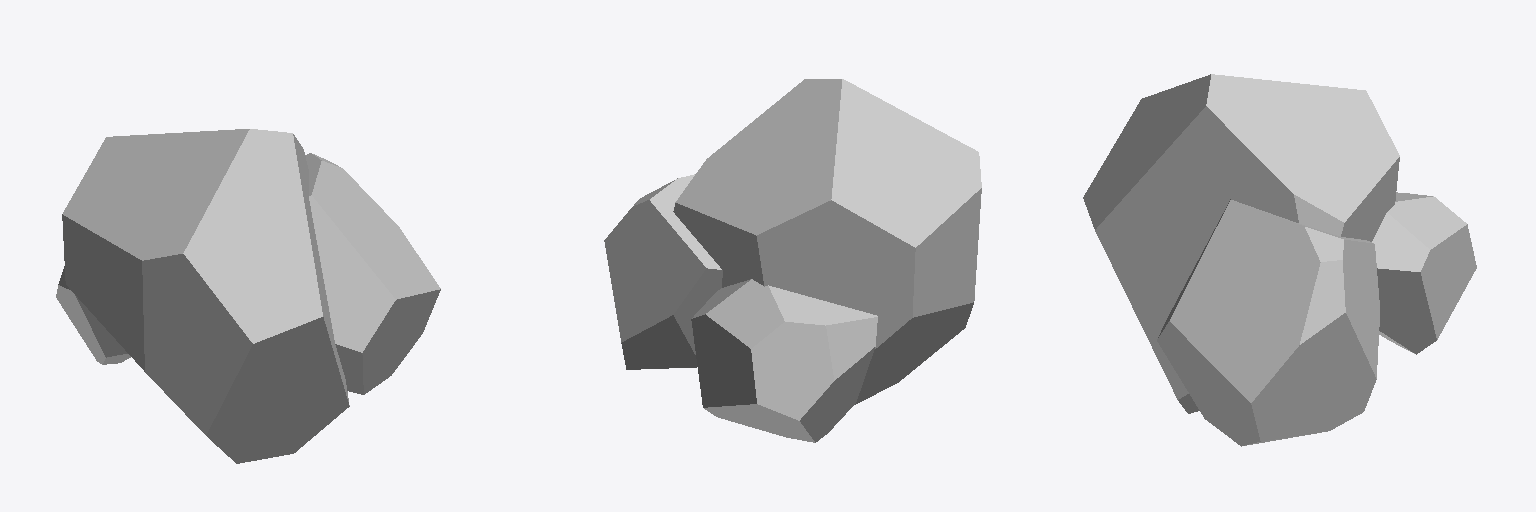
File: Rochas 1-1obj.obj
3 views of the same model, side by side, from view 1: azimuth 30°, elevation 25°; view 2: azimuth 150°, elevation 25°; view 3: azimuth 270°, elevation 25° (orthographic).
Visible parts, largest first — view 1: Cube.004, Cube.003, Cube.005; view 2: Cube.004, Cube.005, Cube.003; view 3: Cube.004, Cube.003, Cube.005.
Part boxes in pixels (x1,y1,x2,y2): Cube.004: (62, 129, 349, 463); Cube.003: (305, 153, 440, 394); Cube.005: (56, 266, 130, 364); Cube.004: (673, 79, 981, 404); Cube.005: (691, 279, 877, 442); Cube.003: (604, 174, 722, 369); Cube.004: (1083, 74, 1399, 413); Cube.003: (1157, 199, 1379, 446); Cube.005: (1372, 192, 1476, 354).
Bounding box in the file's own units: 9.45 × 8.58 × 9.44.